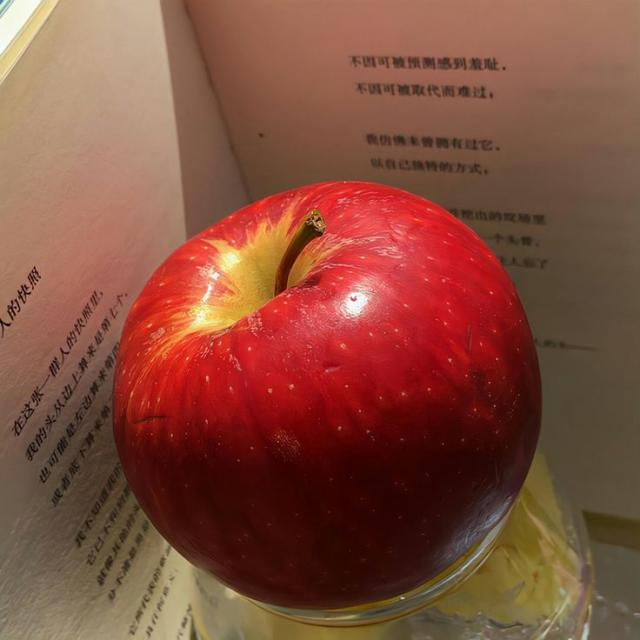apple: (114, 183, 540, 608)
